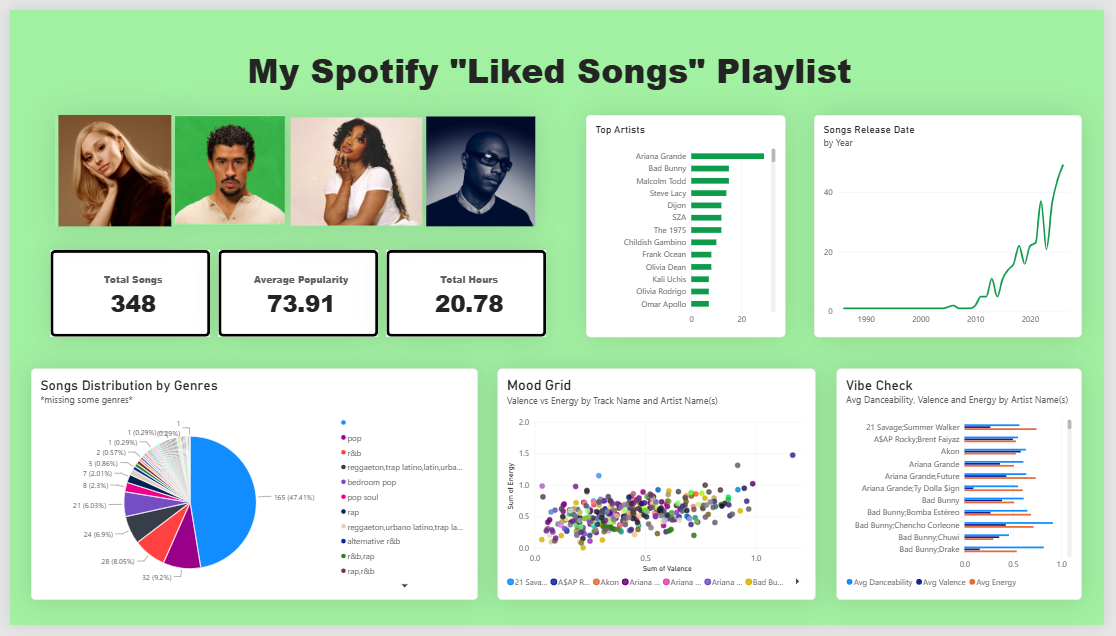

The dashboard page shown, as its layout file describes it:
{"tool":"powerbi","page":{"name":"Page 1","canvas":[1920,1080],"ordinal":0},"visuals":[{"type":"cardVisual","fields":{"Data":["Liked_Songs.Total Songs"]},"box":[71.2,420,280,152.5],"z":0},{"type":"cardVisual","fields":{"Data":["Liked_Songs.Average Popularity"]},"box":[366.2,420,280,152.5],"z":1000},{"type":"cardVisual","fields":{"Data":["Liked_Songs.Total Hours"]},"box":[661.2,420,280,152.5],"z":2000},{"type":"clusteredBarChart","title":"Top Artists","fields":{"Category":["Liked_Songs.Artist Name(s)"],"Y":["Liked_Songs.Total Songs"]},"box":[1010,183.3,350,390],"z":3000},{"type":"lineChart","title":"Songs Release Date","fields":{"Category":["Liked_Songs.Release Date.Variation.Date Hierarchy.Year","Liked_Songs.Release Date.Variation.Date Hierarchy.Quarter","Liked_Songs.Release Date.Variation.Date Hierarchy.Month","Liked_Songs.Release Date.Variation.Date Hierarchy.Day"],"Y":["Liked_Songs.Total Songs"]},"box":[1410,183.3,470,390],"z":4000},{"type":"pieChart","title":"Songs Distribution by Genres","fields":{"Category":["Liked_Songs.Genres"],"Y":["Liked_Songs.Total Songs"]},"box":[36,630,784,406],"z":5000},{"type":"scatterChart","title":"Mood Grid","fields":{"Category":["Liked_Songs.Track Name"],"Series":["Liked_Songs.Artist Name(s)"],"X":["Sum(Liked_Songs.Valence)"],"Y":["Sum(Liked_Songs.Energy)"]},"box":[854,630,558,406],"z":6000},{"type":"clusteredBarChart","title":"Vibe Check","fields":{"Category":["Liked_Songs.Artist Name(s)"],"Y":["Liked_Songs.Avg Danceability","Liked_Songs.Avg Valence","Liked_Songs.Avg Energy"]},"box":[1450,630,430,406],"z":7000},{"type":"textbox","box":[382.5,62.5,1150,92.5],"z":8000},{"type":"image","box":[80,185,210,195],"z":9000},{"type":"image","box":[290,185,192.5,192.5],"z":10000},{"type":"image","box":[491.4,185.7,231.4,192.9],"z":11000},{"type":"image","box":[728.6,185.7,194.3,192.9],"z":12000}]}

Visuals, with their boxes in screenshot pixels (x1, y1, x2, y2), scaled from the page's 1920x1080 canvas onto the 1116x636 screenshot:
cardVisual - Liked_Songs.Total Songs: Rect(41, 247, 204, 337)
cardVisual - Liked_Songs.Average Popularity: Rect(213, 247, 376, 337)
cardVisual - Liked_Songs.Total Hours: Rect(384, 247, 547, 337)
"Top Artists" clusteredBarChart: Rect(587, 108, 791, 338)
"Songs Release Date" lineChart: Rect(820, 108, 1093, 338)
"Songs Distribution by Genres" pieChart: Rect(21, 371, 477, 610)
"Mood Grid" scatterChart: Rect(496, 371, 821, 610)
"Vibe Check" clusteredBarChart: Rect(843, 371, 1093, 610)
textbox: Rect(222, 37, 891, 91)
image: Rect(46, 109, 169, 224)
image: Rect(169, 109, 280, 222)
image: Rect(286, 109, 420, 223)
image: Rect(423, 109, 536, 223)
